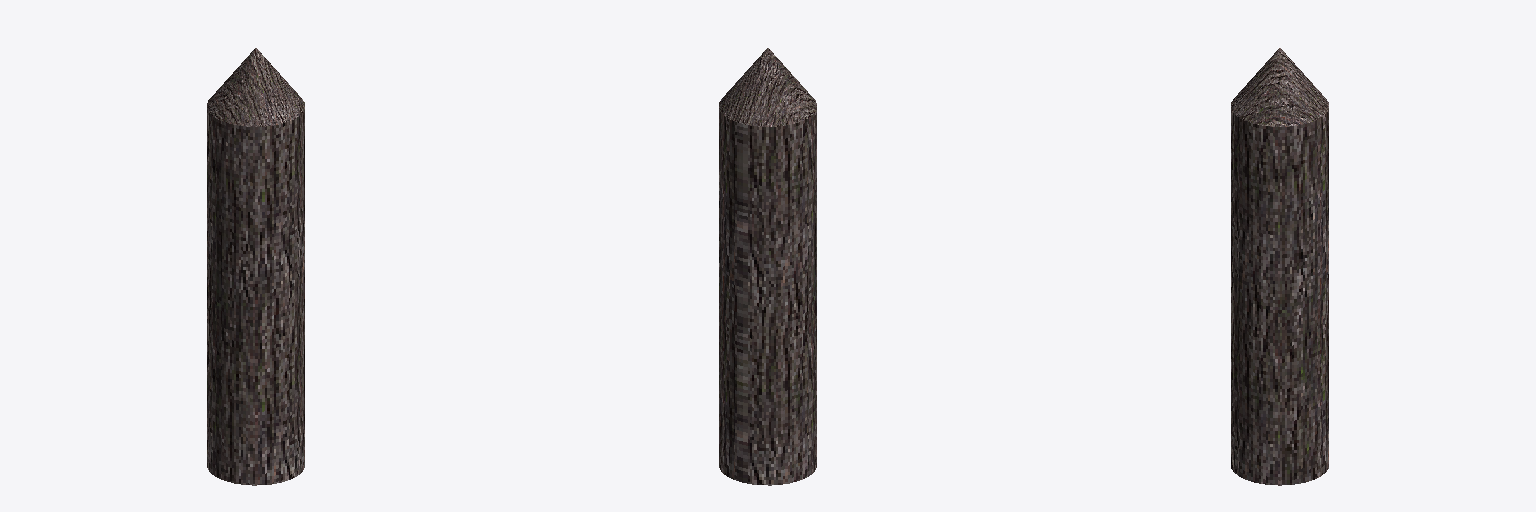
3 views of the same model, side by side, from view 1: azimuth 30°, elevation 25°; view 2: azimuth 150°, elevation 25°; view 3: azimuth 270°, elevation 25° (orthographic).
Visible parts, largest first — view 1: Cylinder; view 2: Cylinder; view 3: Cylinder.
Part boxes in pixels (bbox=[...]): Cylinder: bbox=[207, 48, 304, 485]; Cylinder: bbox=[719, 48, 816, 485]; Cylinder: bbox=[1231, 48, 1328, 485].
Size of the model in its own units: 4 by 18.62 by 4.
Materials: 1 (1 with a texture image).